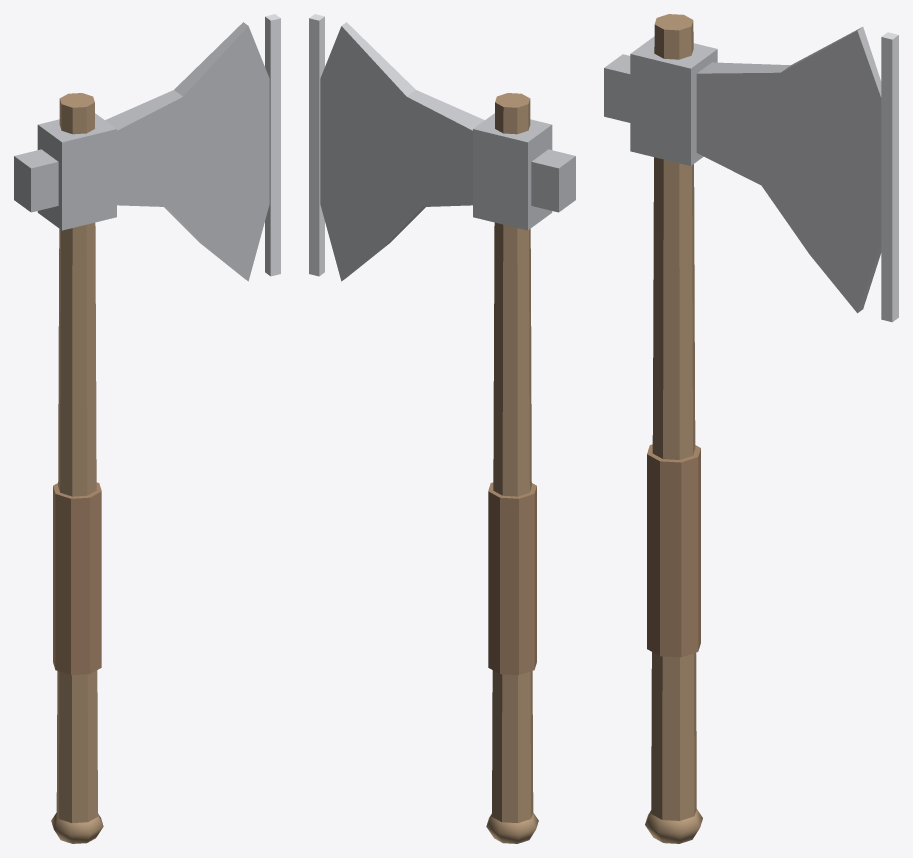
The model's file is Axe.gltf.
The picture shows the model from 3 angles, left to right: view 1: azimuth 30°, elevation 25°; view 2: azimuth 150°, elevation 25°; view 3: azimuth 330°, elevation 25°; orthographic projection. The views are drawn at different scales.
Visible parts, largest first — view 1: Axe; view 2: Axe; view 3: Axe.
Part boxes in pixels (bbox=[...]): Axe: bbox=[14, 14, 280, 843]; Axe: bbox=[309, 14, 575, 843]; Axe: bbox=[604, 14, 898, 843].
Bounding box in the file's own units: 0.303 × 0.88 × 0.056.
